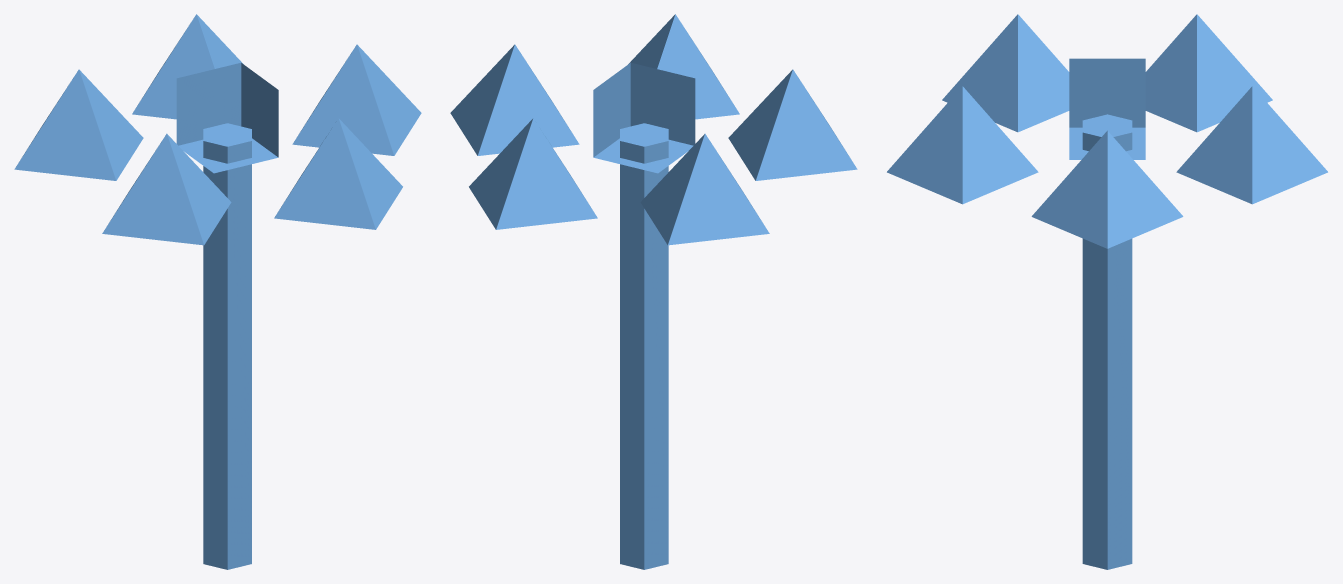
The model's file is FlowerBlue.glb.
3 renders of one model, left to right at view 1: azimuth 30°, elevation 25°; view 2: azimuth 150°, elevation 25°; view 3: azimuth 270°, elevation 25°, orthographic.
Parts seen in each view (by area): view 1: filler_FlowerBlue; view 2: filler_FlowerBlue; view 3: filler_FlowerBlue.
Part boxes in pixels (x1,y1,x2,y2): filler_FlowerBlue: [14, 14, 421, 569]; filler_FlowerBlue: [450, 14, 857, 569]; filler_FlowerBlue: [887, 14, 1327, 569].
Size of the model in its own units: 0.4494 by 0.57 by 0.4643.
